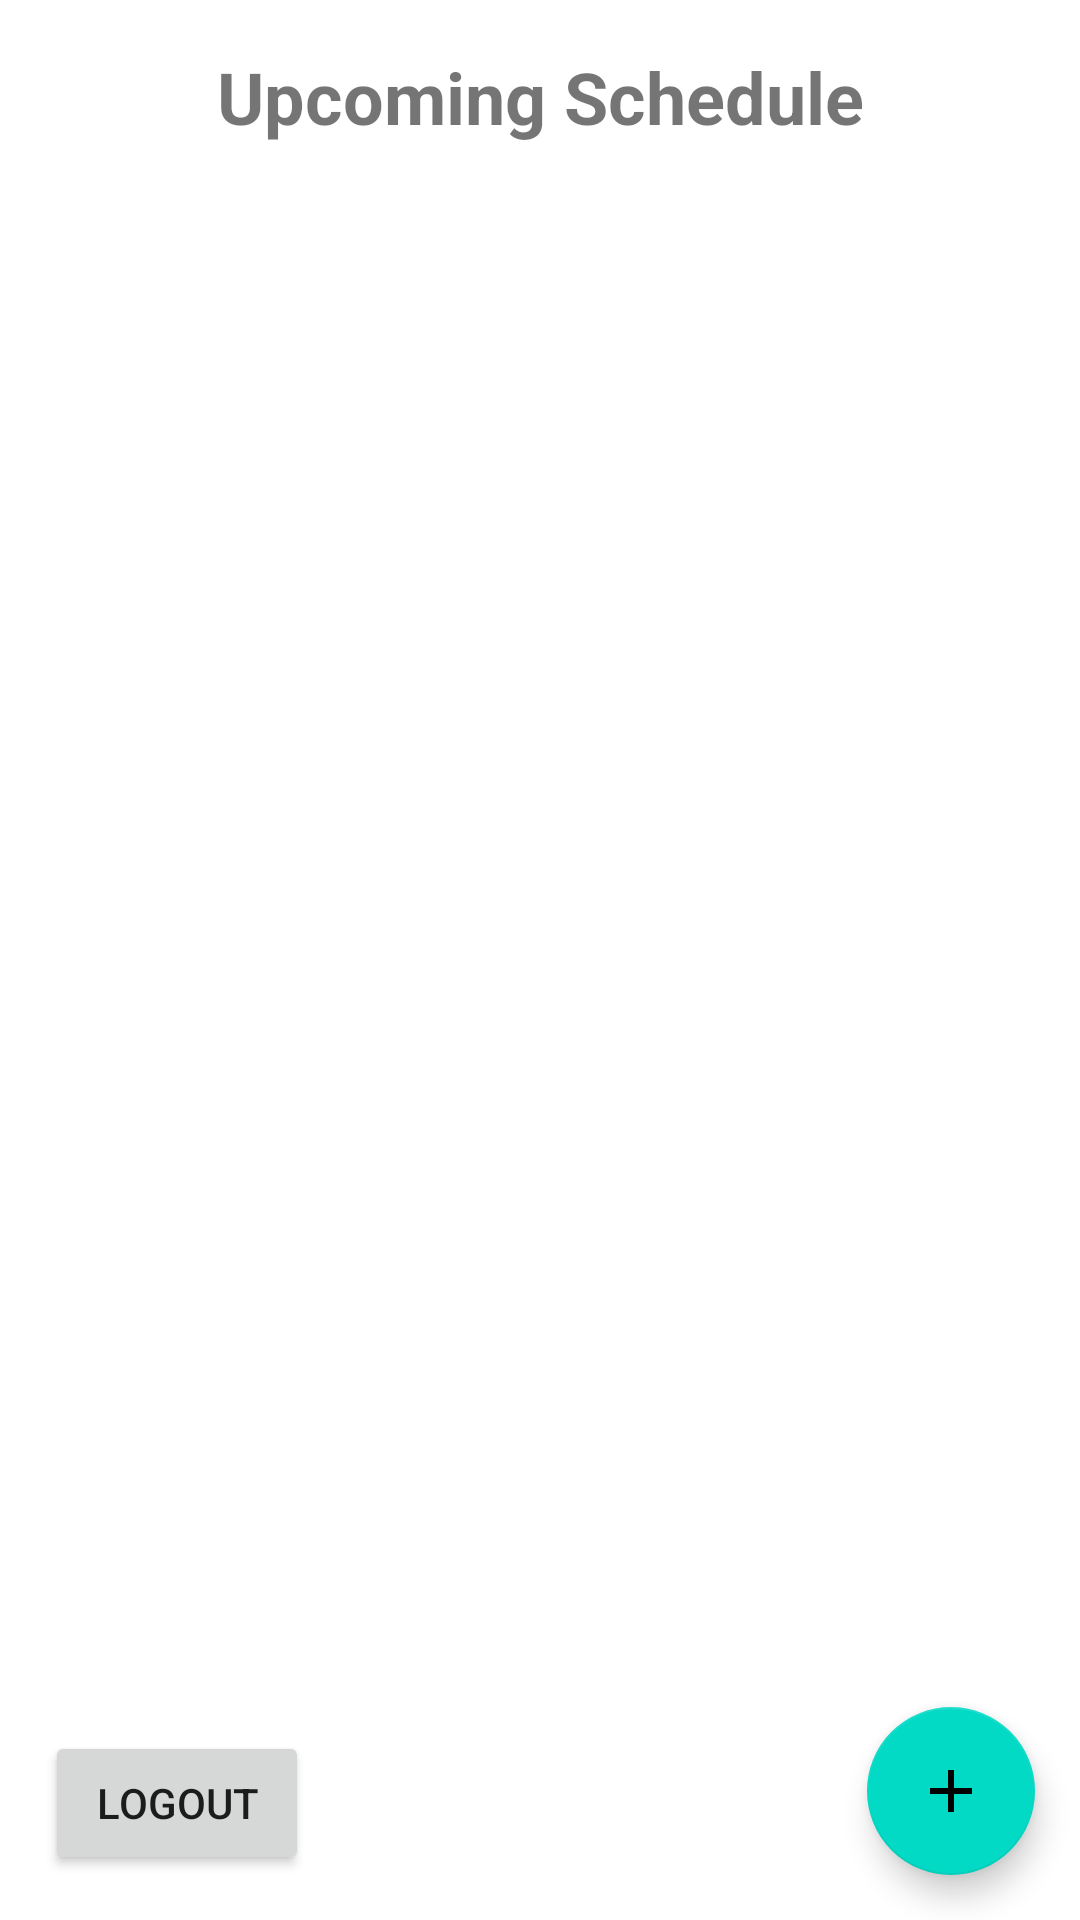

Named icons in this screenshot (1080px x 1920px) and their bounding boxes, bbox=(x1, y1, x2, y2):
add task: bbox=(867, 1707, 1035, 1875)
